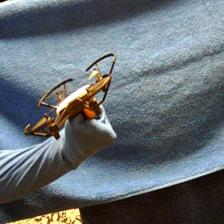drone: (24, 52, 117, 141)
